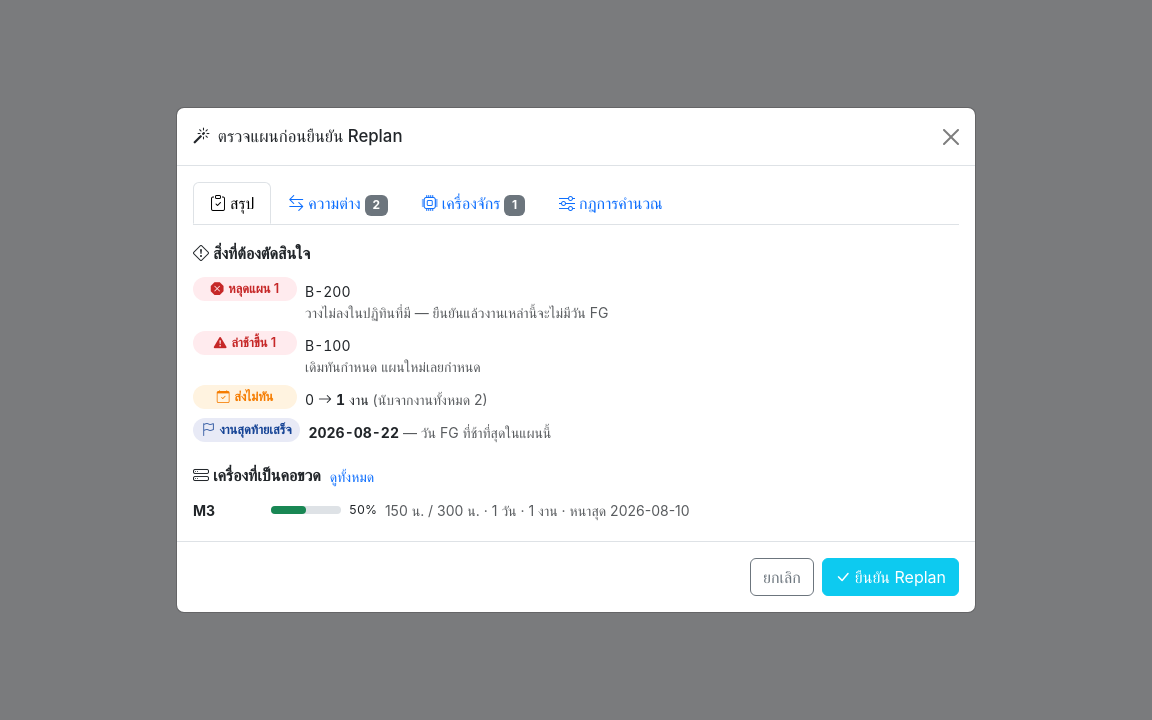
PlanPreviewDialog — แท็บหลัก › แท็บความต่าง: กางแถวที่หลุดแผน → โชว์กฎได้ แต่บอกว่าไม่มีการจองเครื่อง
Click the tab "ความต่าง 2" at (338, 204), box [271,182,405,225]
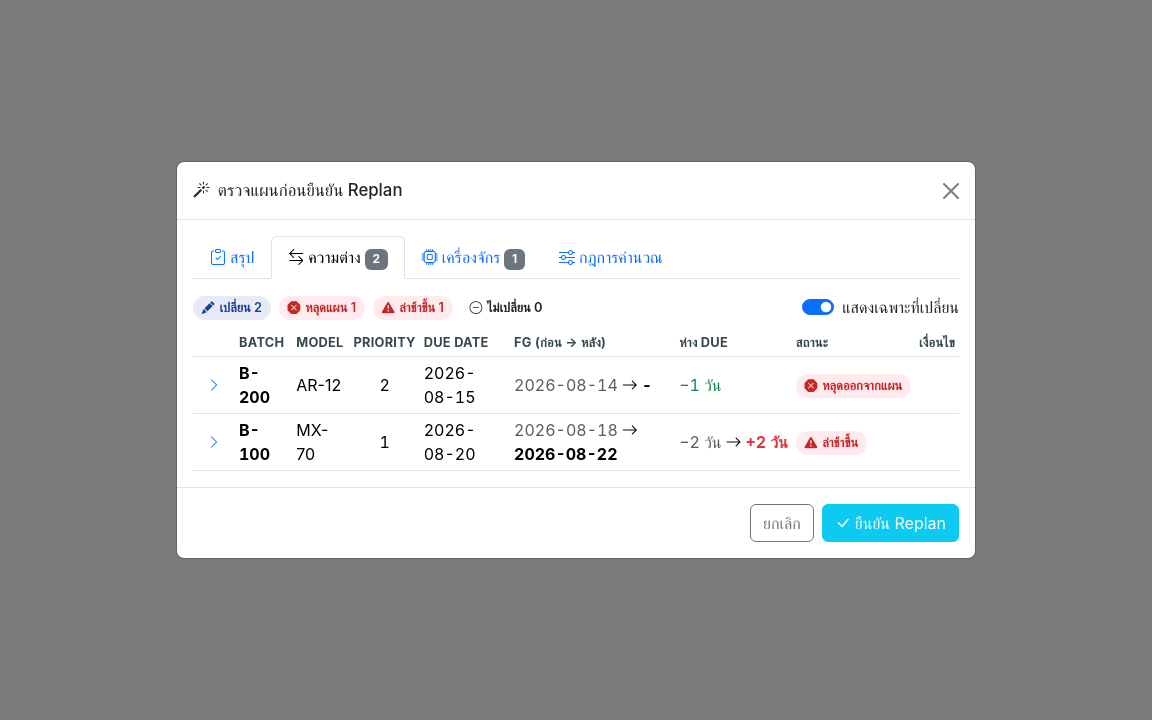
Click the button named "รายละเอียดออเดอร์" next to "B-200" at (214, 385), box [197,368,231,402]
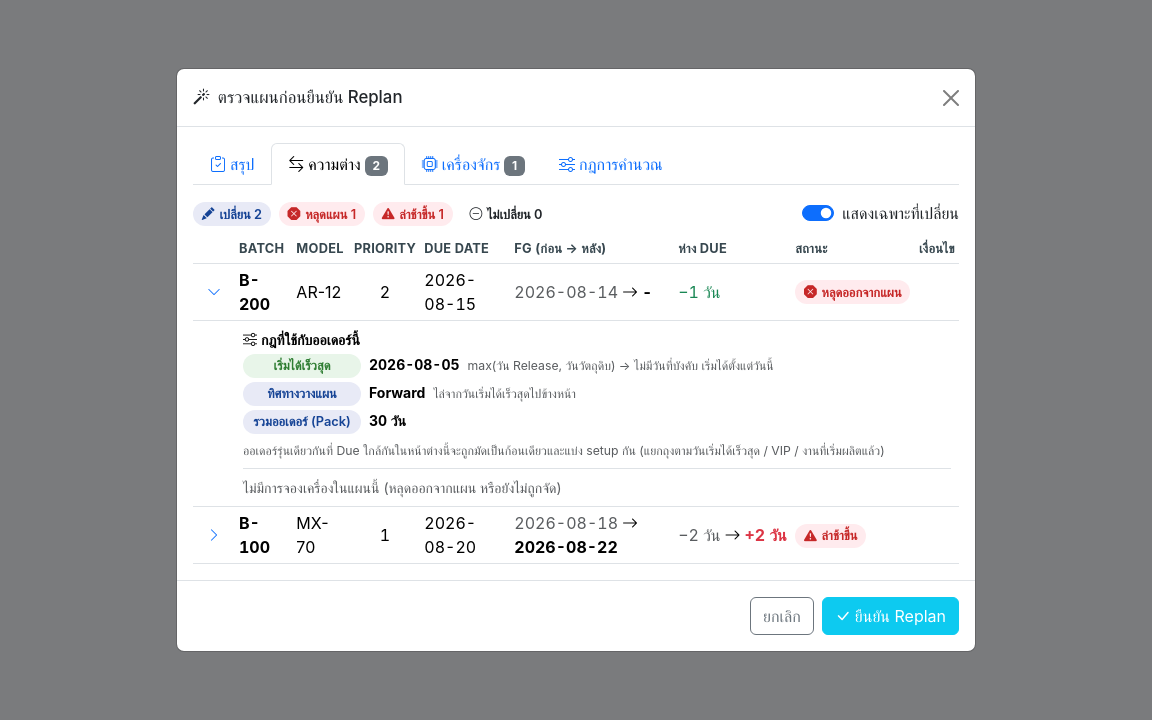
Check: the text "กฎที่ใช้กับออเดอร์นี้" is shown, box [243,331,360,348]
Check: the text "ไม่มีการจองเครื่องในแผนนี้ (หลุดออกจากแผน หรือยังไม่ถูกจัด)" is shown, box [243,479,562,496]
